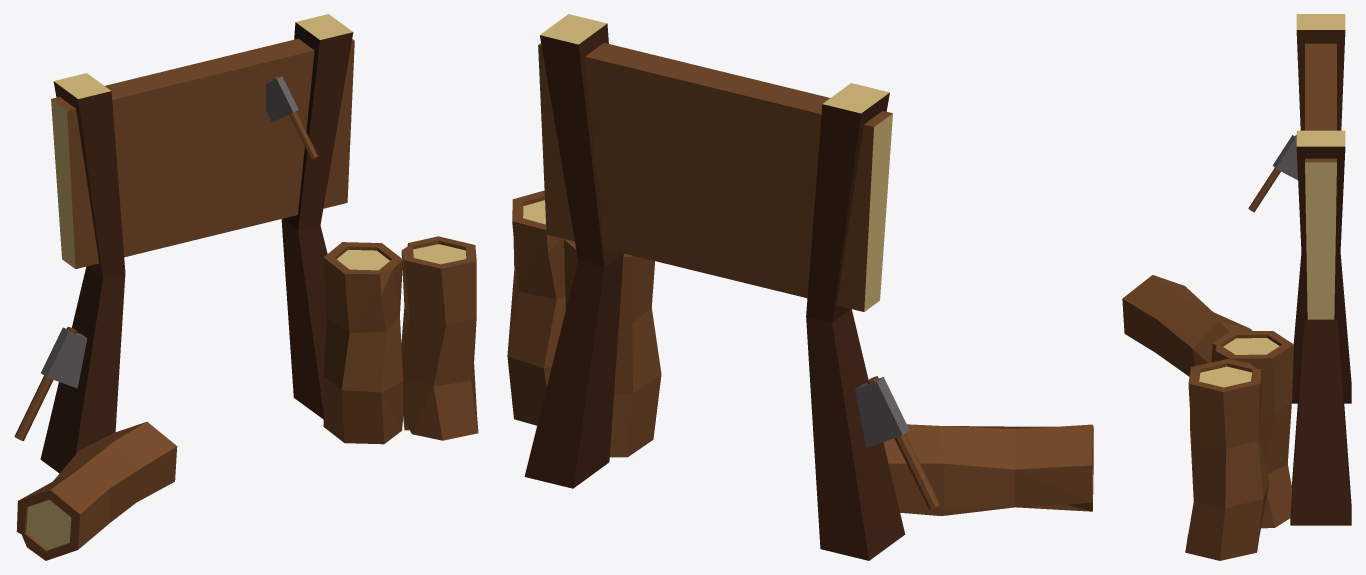
The model's file is entree bucheron.fbx.
The picture shows the model from 3 angles, left to right: view 1: azimuth 30°, elevation 25°; view 2: azimuth 150°, elevation 25°; view 3: azimuth 270°, elevation 25°; orthographic projection. The views are drawn at different scales.
Parts seen in each view (by area): view 1: Cube.037; view 2: Cube.037; view 3: Cube.037.
Boxes of the visible parts, bbox=[...] form: Cube.037: bbox=[14, 14, 478, 560]; Cube.037: bbox=[507, 14, 1093, 560]; Cube.037: bbox=[1122, 14, 1351, 560].
Bounding box in the file's own units: 4.32 × 1.81 × 3.33.
